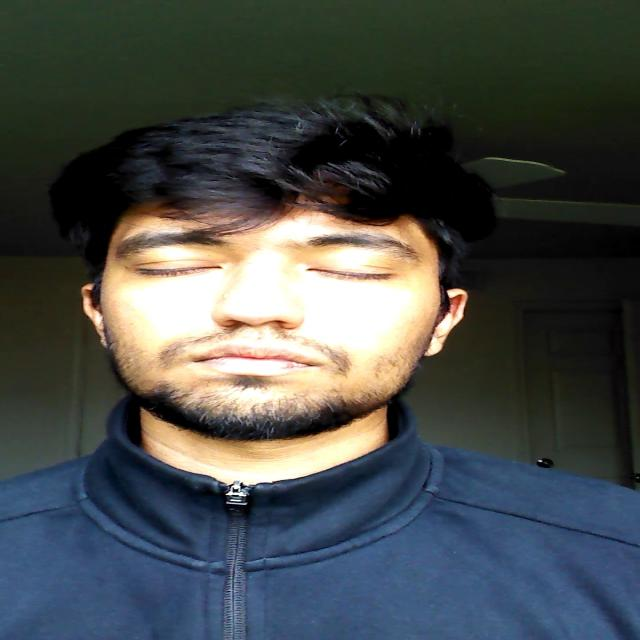Eyeclosed: (308, 254, 402, 289), (132, 255, 221, 283)
